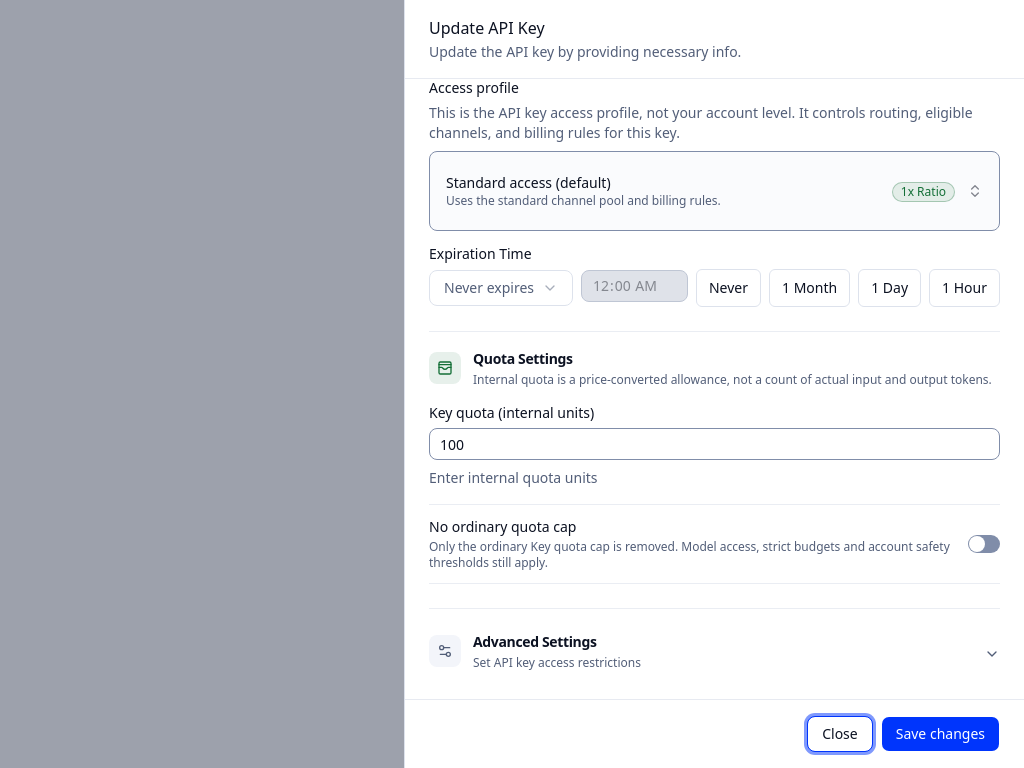
Test: shows the complete selected models model scope as read-only in the generic editor
(page scrolled)
Expected: the button "Save changes" is enabled, [881, 716, 1000, 752]
Step 1. Click the button "Advanced Settings Set API key access restrictions" → (445,651), box [429, 629, 1000, 679]
(page scrolled)
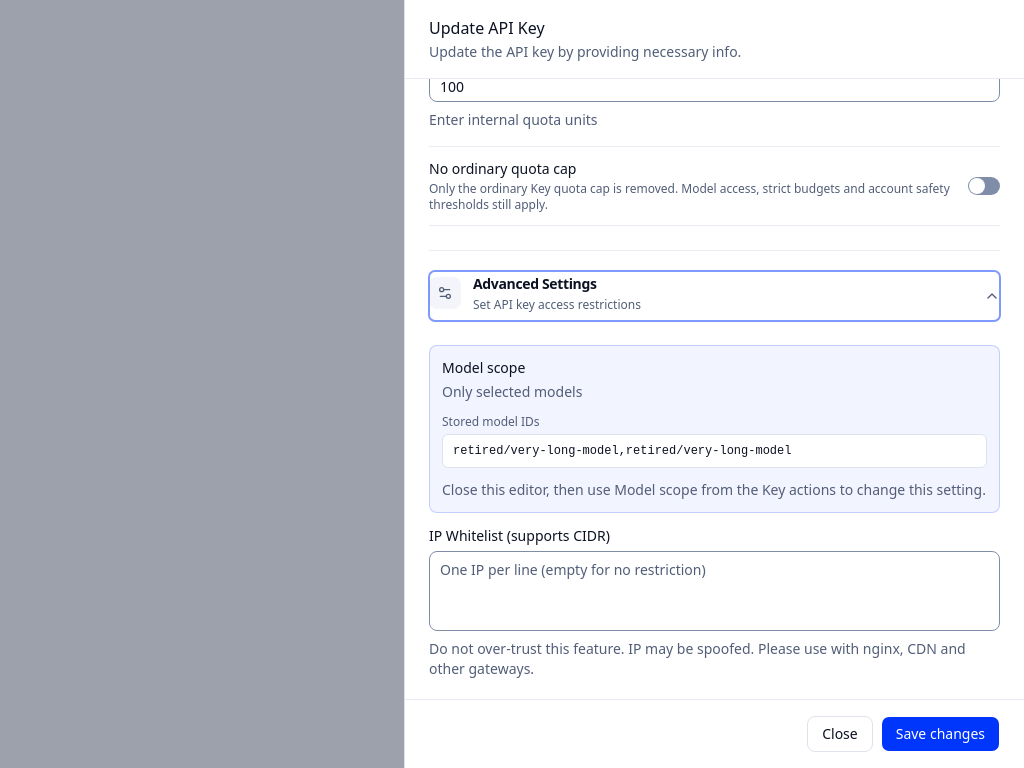
Expected: the text "Only selected models" is shown, [442, 382, 582, 401]
Expected: the text "Close this editor, then use Model scope from the Key actions to change this setting." is shown, [442, 480, 986, 499]
Expected: the text "retired/very-long-model,retired/very-long-model" is shown, [453, 444, 792, 458]
